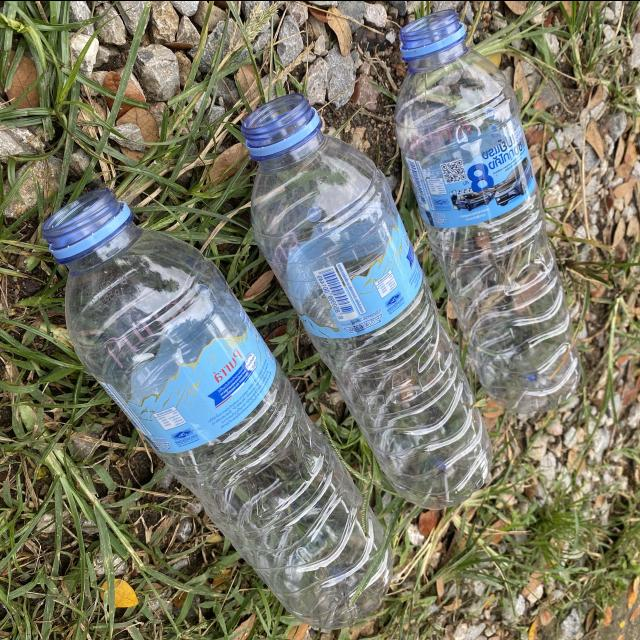plastik: (42, 187, 391, 628), (242, 94, 491, 509), (396, 9, 580, 412)
